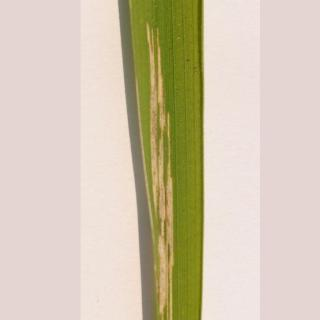Hawar-Daun: (124, 23, 190, 320)
